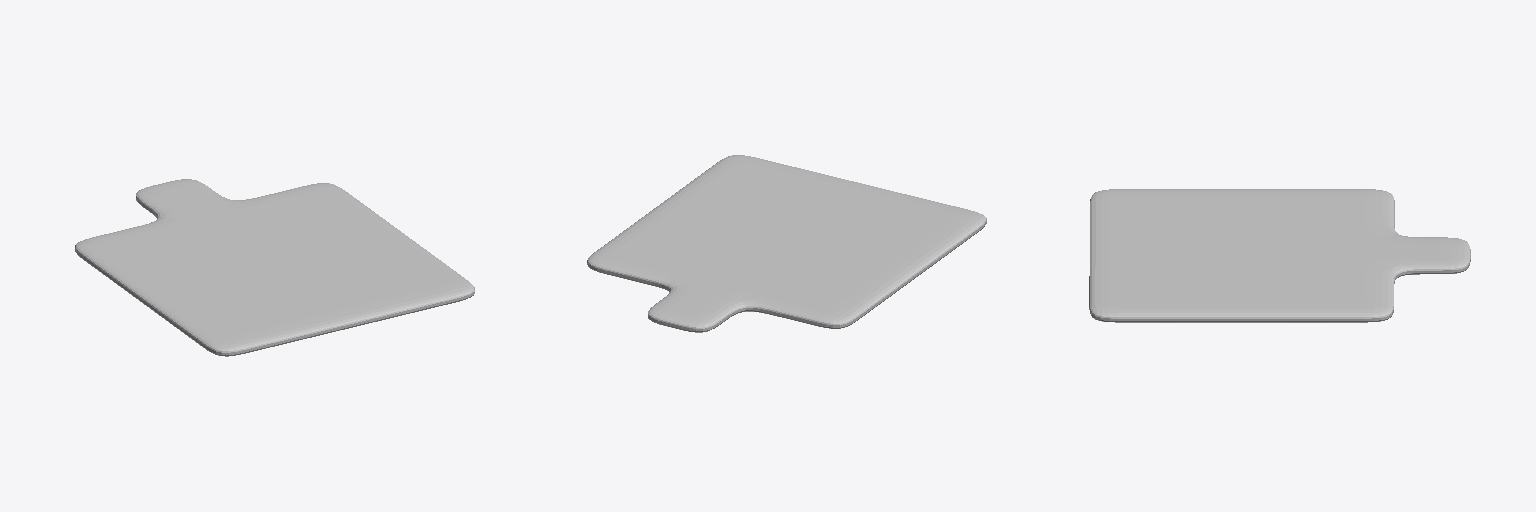
File: GoldenPuzzle-17-OOOM.obj
3 views of the same model, side by side, from view 1: azimuth 30°, elevation 25°; view 2: azimuth 150°, elevation 25°; view 3: azimuth 270°, elevation 25° (orthographic).
Parts seen in each view (by area): view 1: Puzzle.017; view 2: Puzzle.017; view 3: Puzzle.017.
Part boxes in pixels (left/top/right/bottom): Puzzle.017: left=75, top=179, right=474, bottom=356; Puzzle.017: left=587, top=155, right=986, bottom=332; Puzzle.017: left=1089, top=189, right=1470, bottom=322.
Bounding box in the file's own units: 0.25 × 0.0092 × 0.3138.